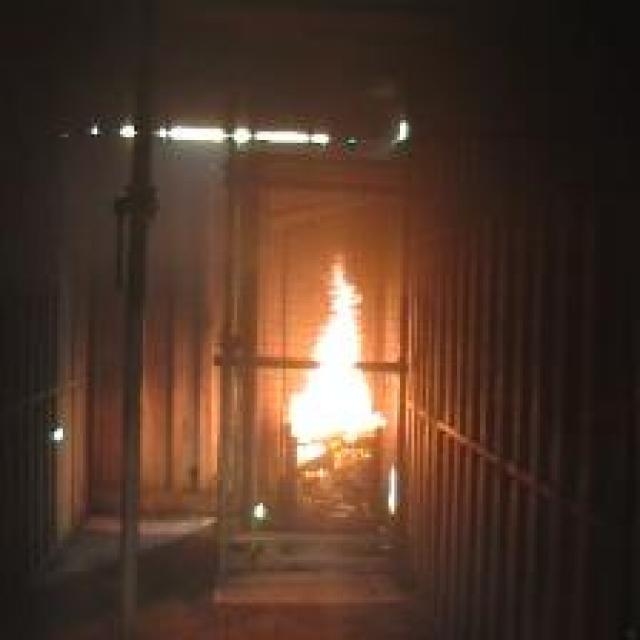Fire: (292, 256, 388, 464)
